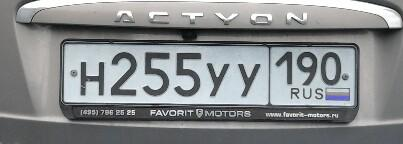license-plate: (58, 42, 361, 106)
